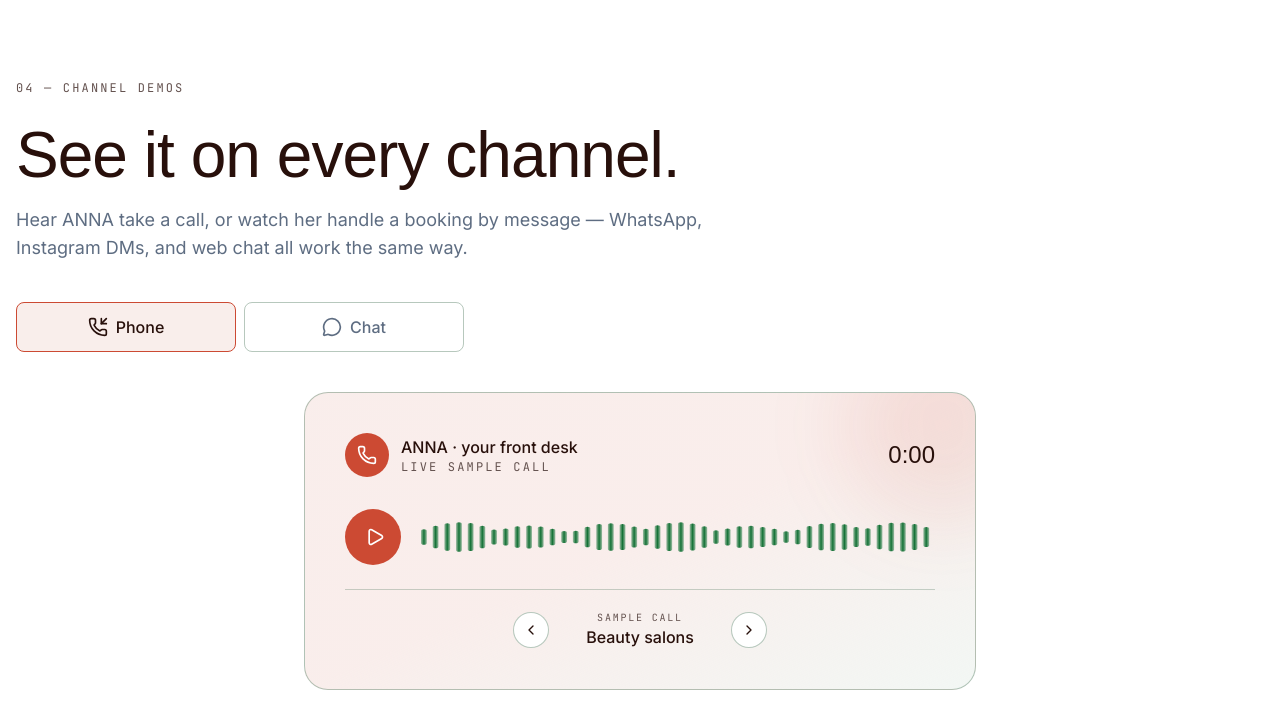
Test case: ChannelDemos › clicking Chat updates aria-selected and shows the WhatsApp conversation
The width and height of the screenshot is (1280, 720).
Click the tab "Chat": click(354, 327) [244, 302, 464, 352]
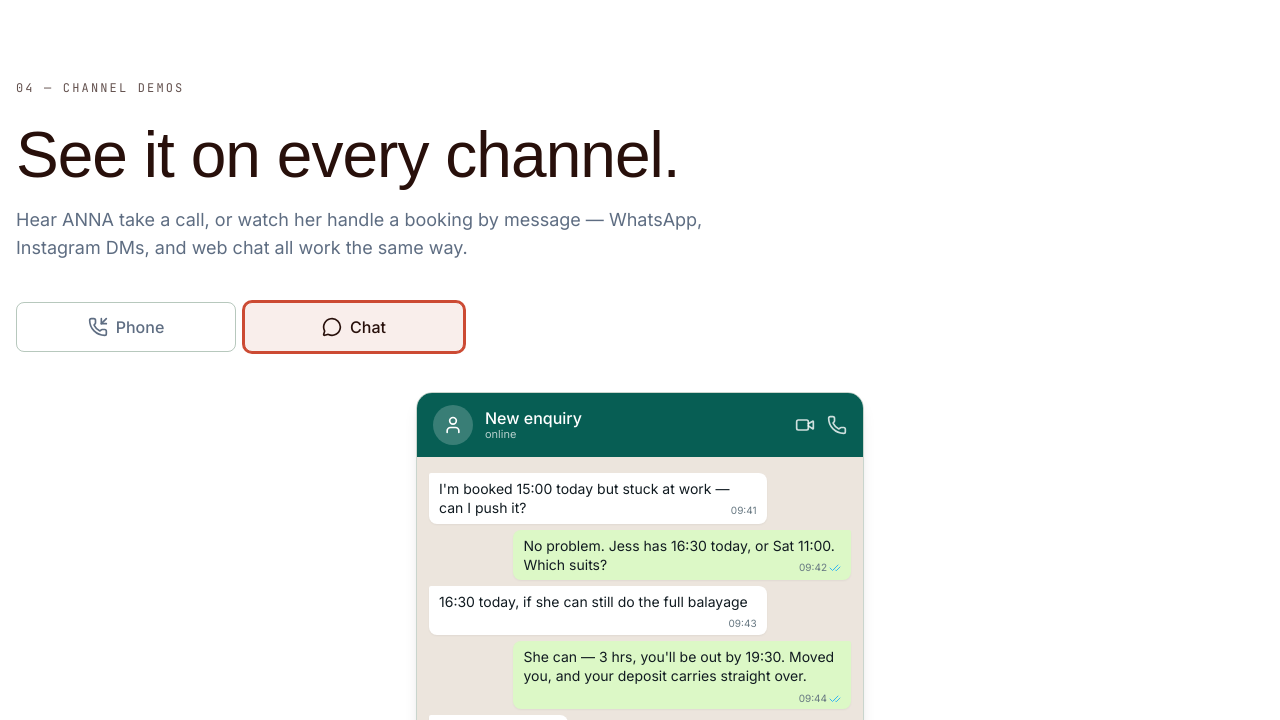
Expected: the text "I'm booked 15:00 today but stuck at work — can I push it?" is shown, [439, 480, 729, 516]
